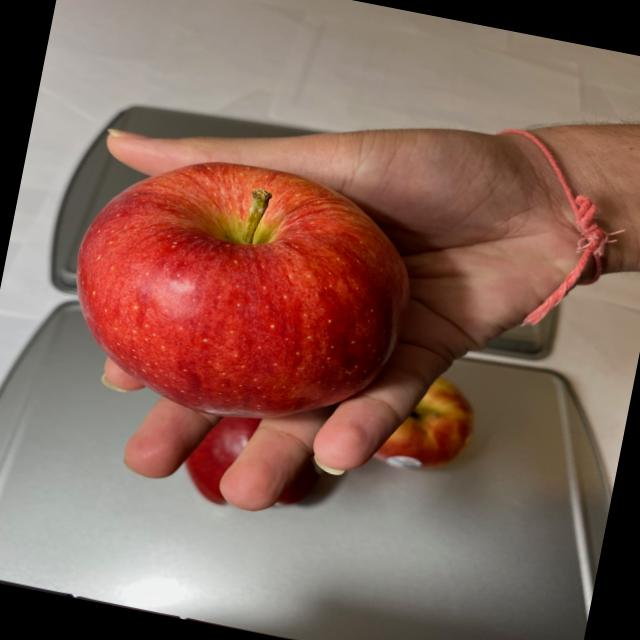apple: (51, 134, 432, 446)
